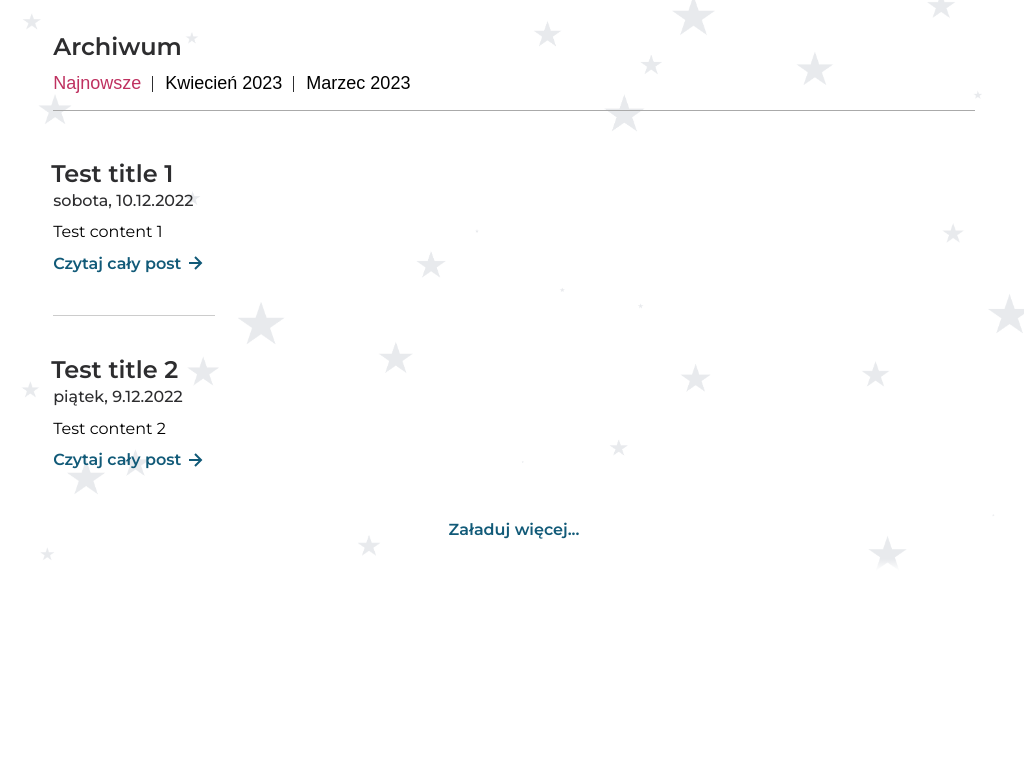
News list component › Displays error when load more posts fails
The width and height of the screenshot is (1024, 768).
Click the button "Załaduj więcej...": point(514, 529) [449,520,579,539]
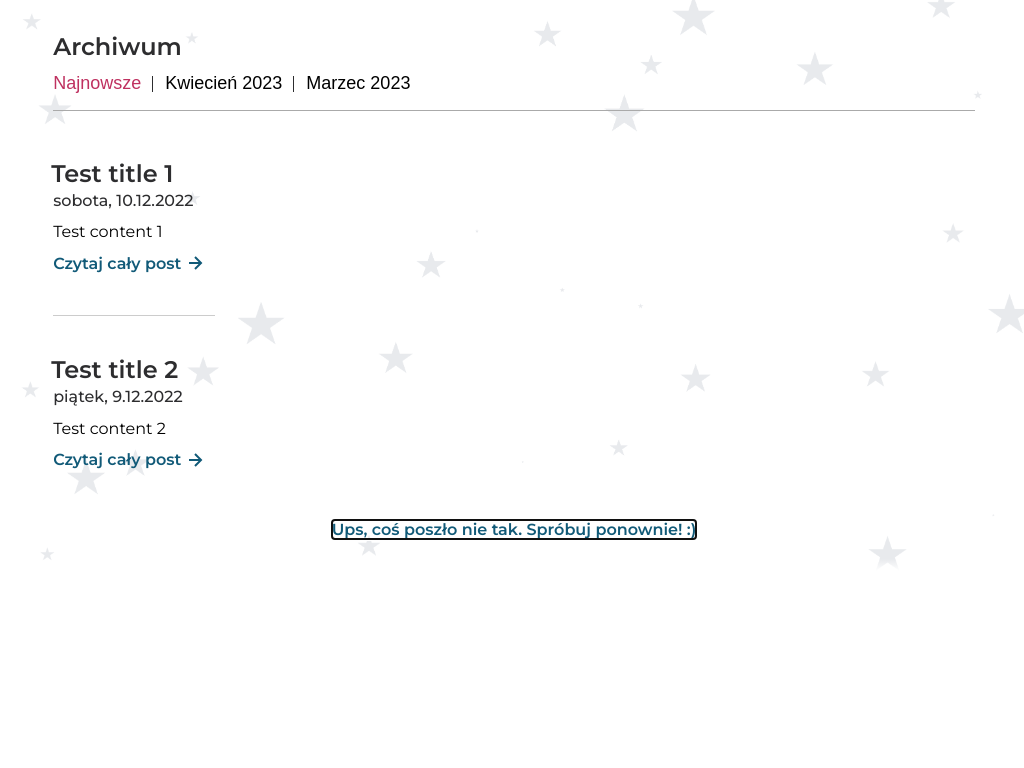
Check: the button "Ups, coś poszło nie tak. Spróbuj ponownie! :)" is shown, box [332,520,696,539]
